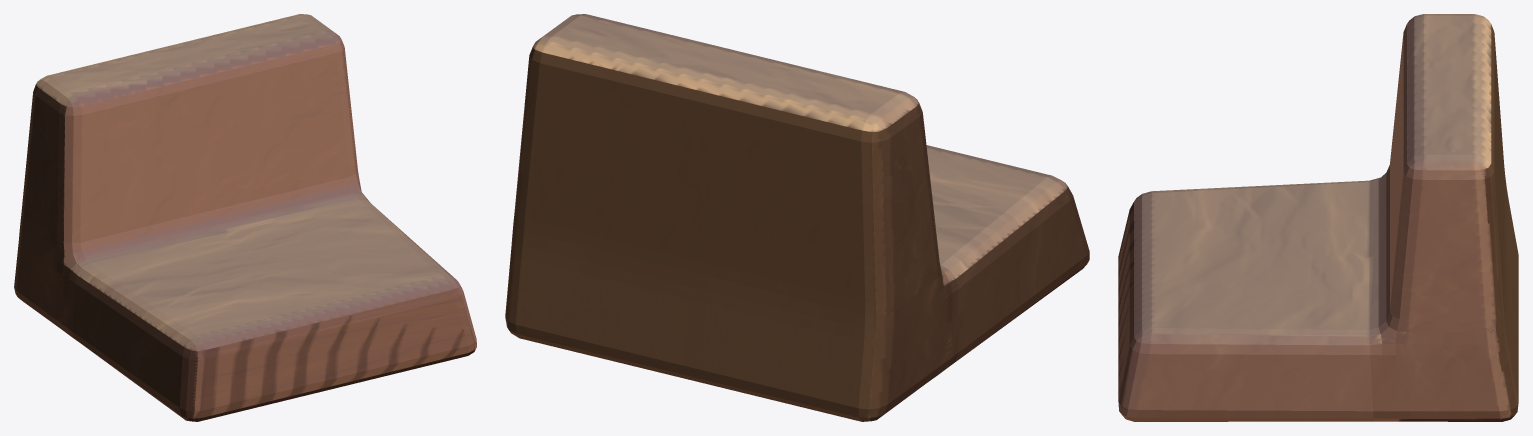
The model's file is StripedSofa.glb.
3 views of the same model, side by side, from view 1: azimuth 30°, elevation 25°; view 2: azimuth 150°, elevation 25°; view 3: azimuth 270°, elevation 25° (orthographic). The views are drawn at different scales.
Parts seen in each view (by area): view 1: SOFA有条纹.001; view 2: SOFA有条纹.001; view 3: SOFA有条纹.001.
Boxes of the visible parts, left/top/right/bottom form: SOFA有条纹.001: left=14, top=14, right=476, bottom=421; SOFA有条纹.001: left=505, top=14, right=1089, bottom=421; SOFA有条纹.001: left=1118, top=14, right=1518, bottom=421.
Size of what is drawn, in the model's own units: 2.03 by 1.5 by 2.08.
1 material, 1 textured.
